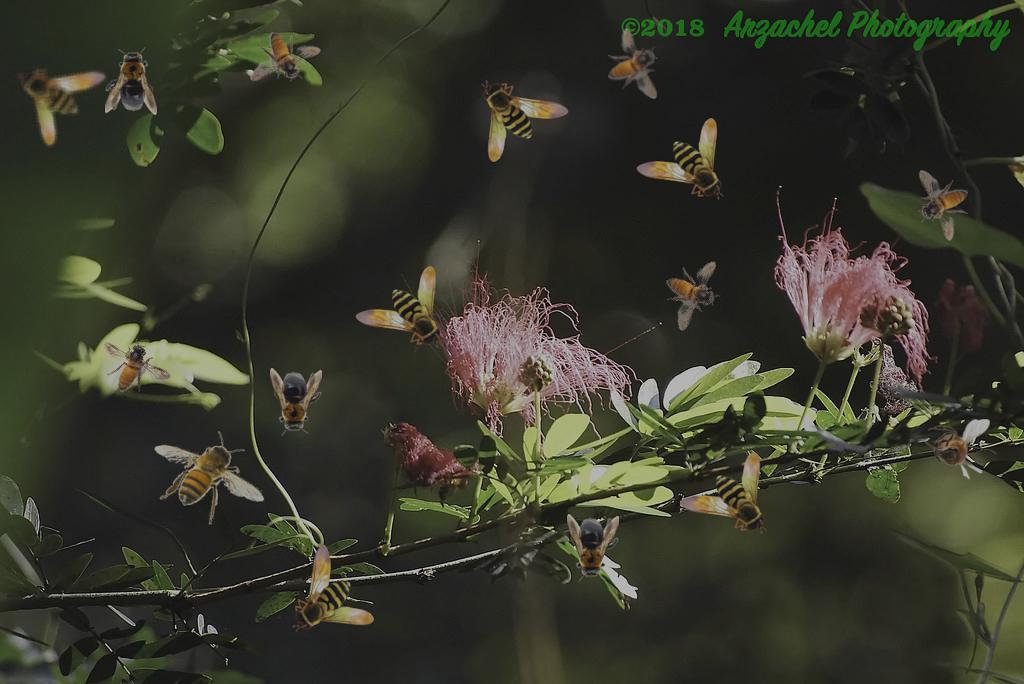Bee: (13, 45, 123, 151), (154, 431, 265, 525), (649, 248, 737, 333), (89, 322, 173, 409), (481, 80, 569, 162), (636, 118, 724, 200), (355, 266, 443, 348), (679, 452, 767, 534), (292, 544, 374, 632), (920, 419, 990, 480), (250, 32, 321, 82), (918, 170, 968, 241), (608, 28, 658, 99), (567, 514, 619, 582), (105, 47, 157, 115), (270, 368, 322, 436)
